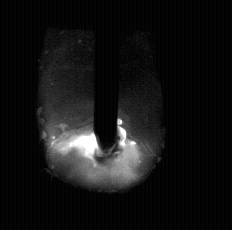arame: (95, 0, 119, 153)
poca: (41, 0, 163, 230)
